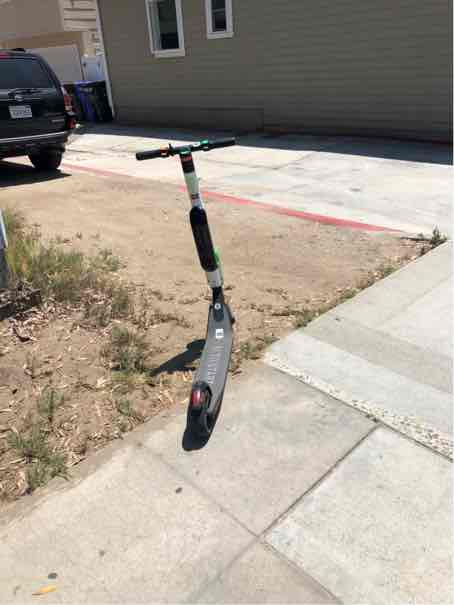scooter: (129, 125, 268, 470)
